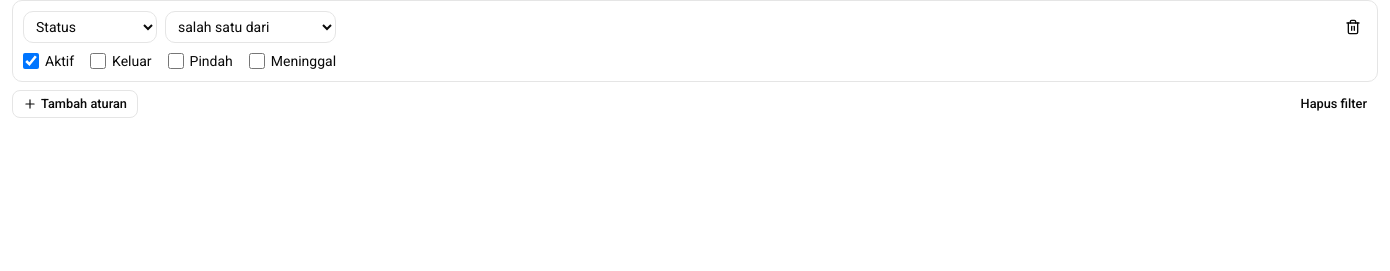
Test: tag rule in the rule editor › starts empty and explains that the rule is not applied until a tag is chosen
The image size is (1390, 271).
Select "Tag" in the dropdown named "Kolom": x=90, y=27 [23,11,157,43]
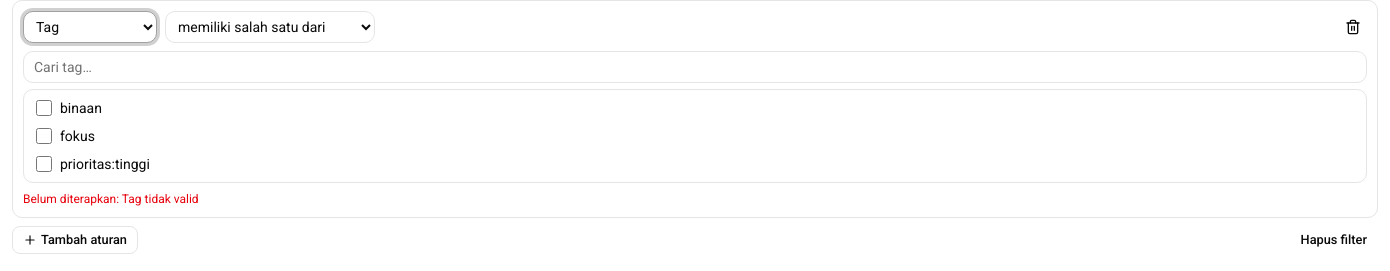
Now the message shows "Belum diterapkan", box [23,192,122,206]
Now the number of checkboxes is 3, box [36,100,52,116]; [36,128,52,144]; [36,156,52,172]
